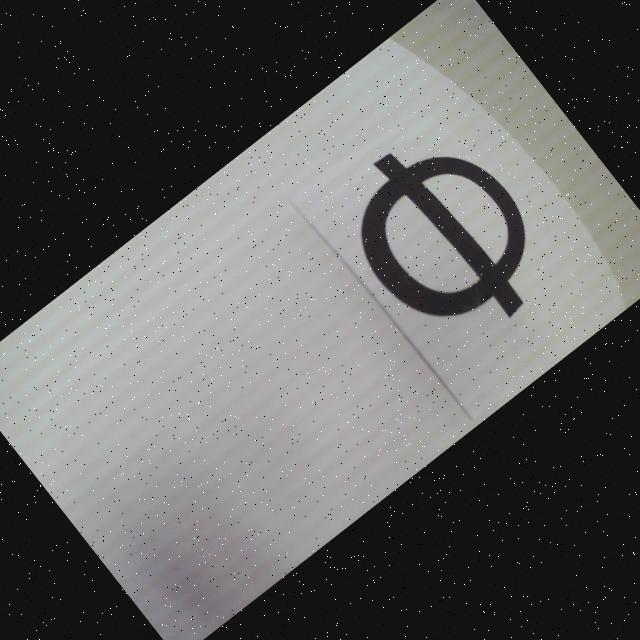PHI: (320, 108, 570, 366)
